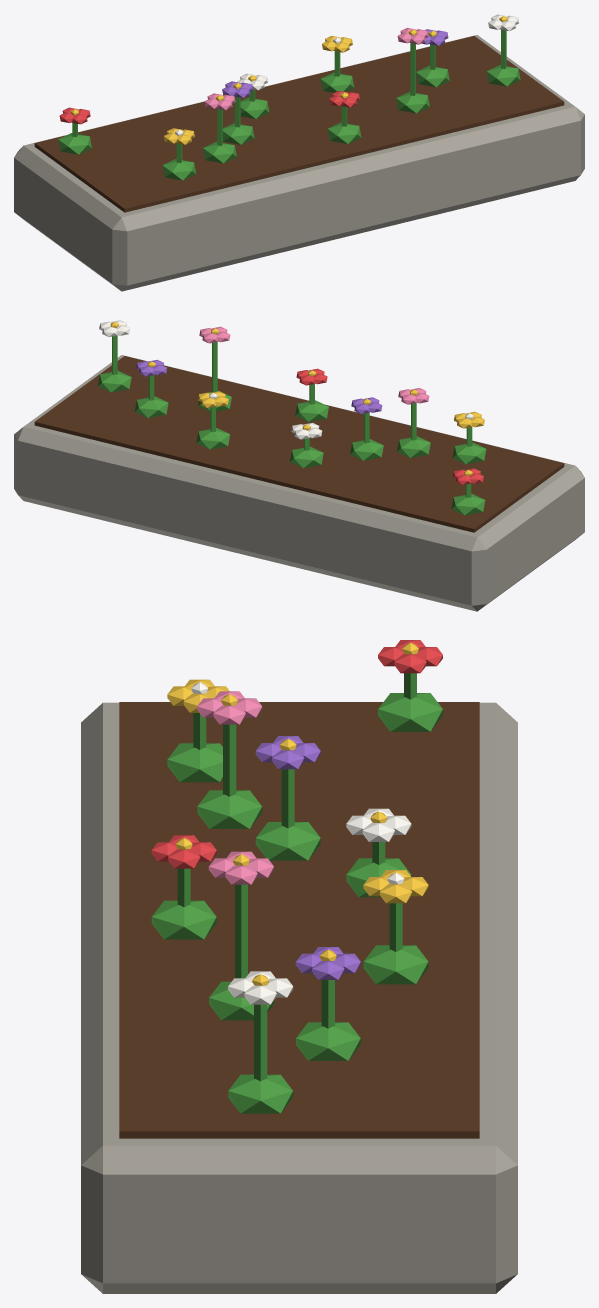
Rendered from yard_flowerbed_v01.glb.
3 renders of one model, top to bottom at view 1: azimuth 30°, elevation 25°; view 2: azimuth 150°, elevation 25°; view 3: azimuth 270°, elevation 25°, orthographic. The views are drawn at different scales.
Parts seen in each view (by area): view 1: flowerbed; view 2: flowerbed; view 3: flowerbed.
Part boxes in pixels (x1,y1,x2,y2): flowerbed: [14, 14, 584, 291]; flowerbed: [14, 320, 584, 611]; flowerbed: [81, 640, 517, 1293].
Size of the model in its own units: 2 by 0.6365 by 0.8.
